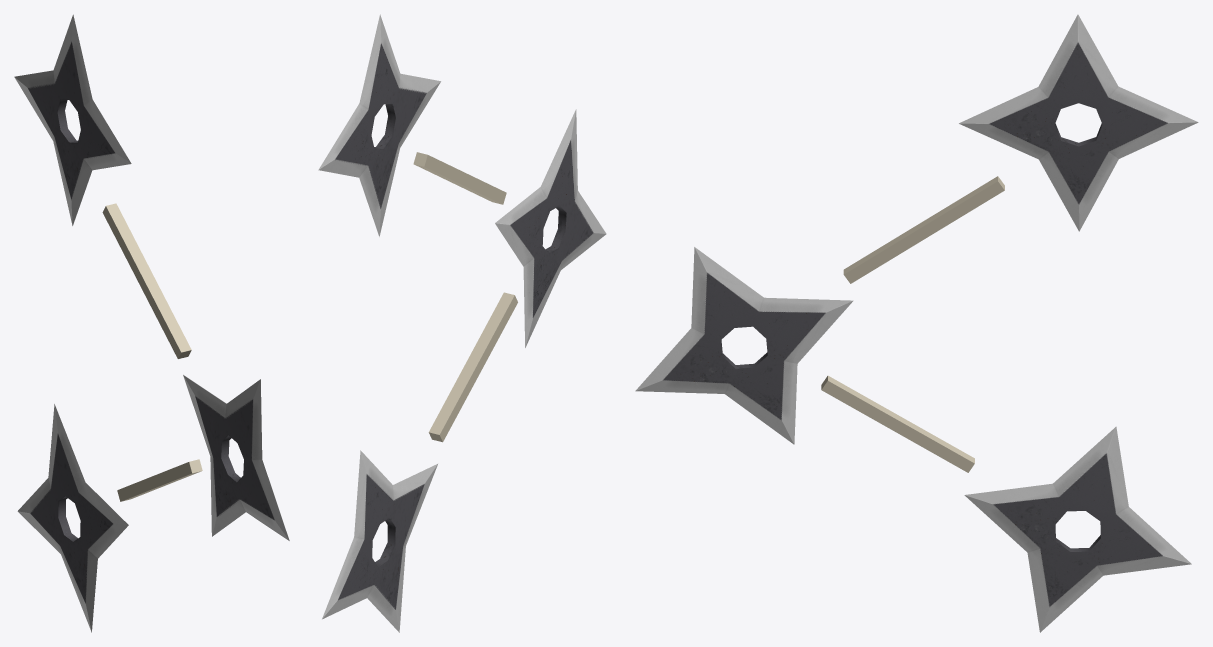
File: SM_Shuriken_Ricochet.fbx
The picture shows the model from 3 angles, left to right: view 1: azimuth 30°, elevation 25°; view 2: azimuth 150°, elevation 25°; view 3: azimuth 270°, elevation 25°; orthographic projection. The views are drawn at different scales.
Parts seen in each view (by area): view 1: Shuriken_Ricochet; view 2: Shuriken_Ricochet; view 3: Shuriken_Ricochet.
Part boxes in pixels (x1,y1,x2,y2): Shuriken_Ricochet: (14, 14, 289, 632); Shuriken_Ricochet: (318, 14, 606, 632); Shuriken_Ricochet: (635, 14, 1198, 632).
Bounding box in the file's own units: 2 × 110 × 91.12.
